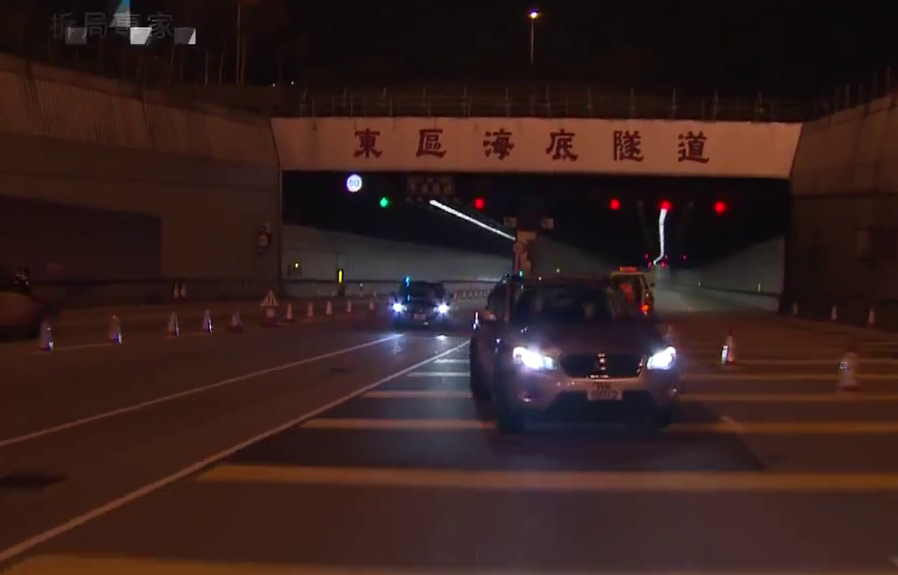car: (383, 270, 456, 335)
